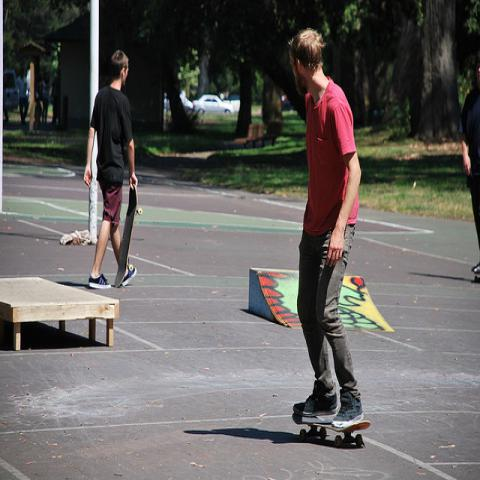car: (193, 94, 235, 115), (3, 70, 19, 110), (164, 93, 194, 113)
